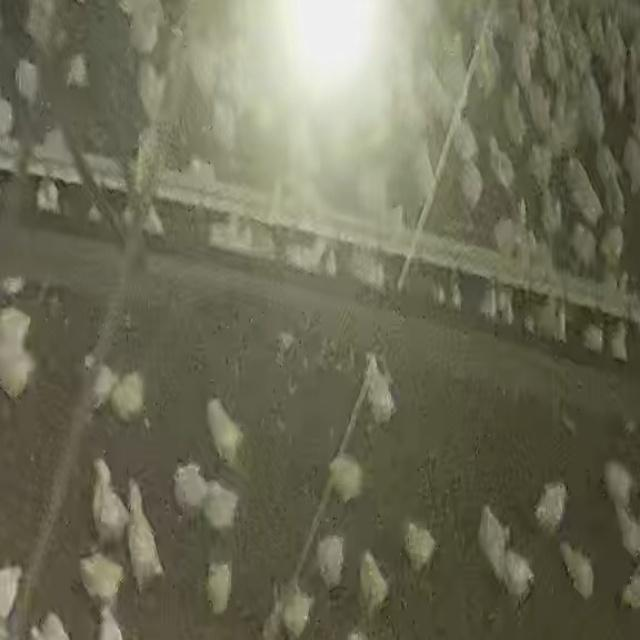chicken: (126, 481, 166, 591), (90, 458, 132, 548), (601, 461, 640, 555), (200, 395, 248, 470), (0, 305, 36, 399), (356, 351, 399, 422), (477, 505, 514, 586), (77, 550, 126, 606), (558, 542, 596, 602), (359, 548, 390, 620), (172, 461, 211, 517), (201, 480, 241, 532), (325, 454, 365, 505), (501, 548, 536, 606), (109, 370, 147, 423), (281, 581, 316, 638), (532, 480, 569, 532), (403, 520, 438, 574), (315, 532, 346, 587), (204, 561, 234, 617), (502, 82, 524, 150), (456, 156, 480, 215), (13, 55, 43, 100), (489, 138, 513, 187), (66, 50, 89, 90)
